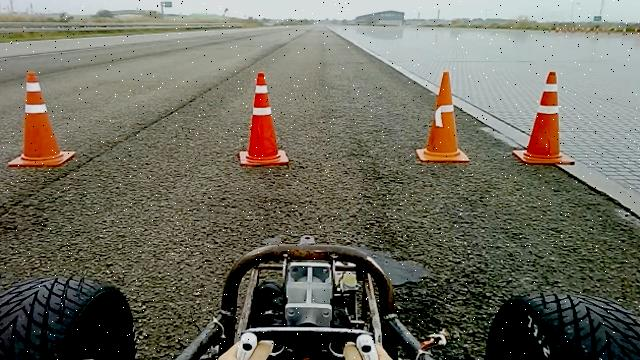red cone: (8, 70, 76, 168), (512, 70, 576, 165), (416, 70, 470, 163), (239, 71, 290, 167)
